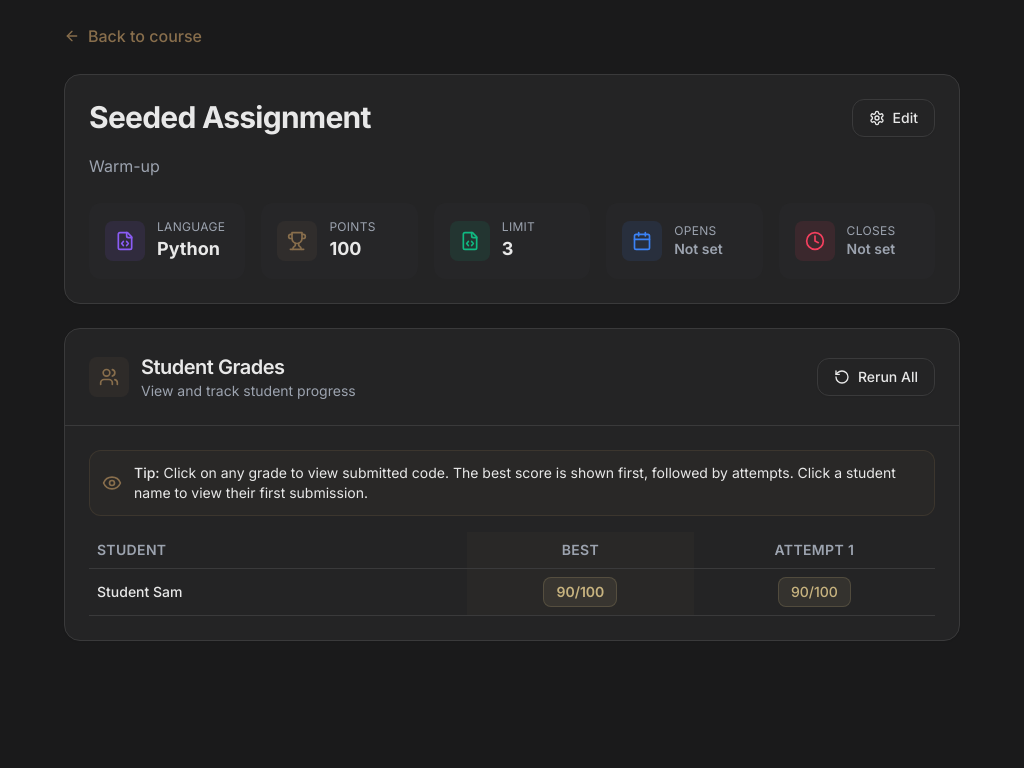
Scenario: AssignmentDetailPage (MSW, updated) › faculty view: rerun all students error handling
Click the button "Rerun All".
click(876, 377)  # box [817,358,935,396]
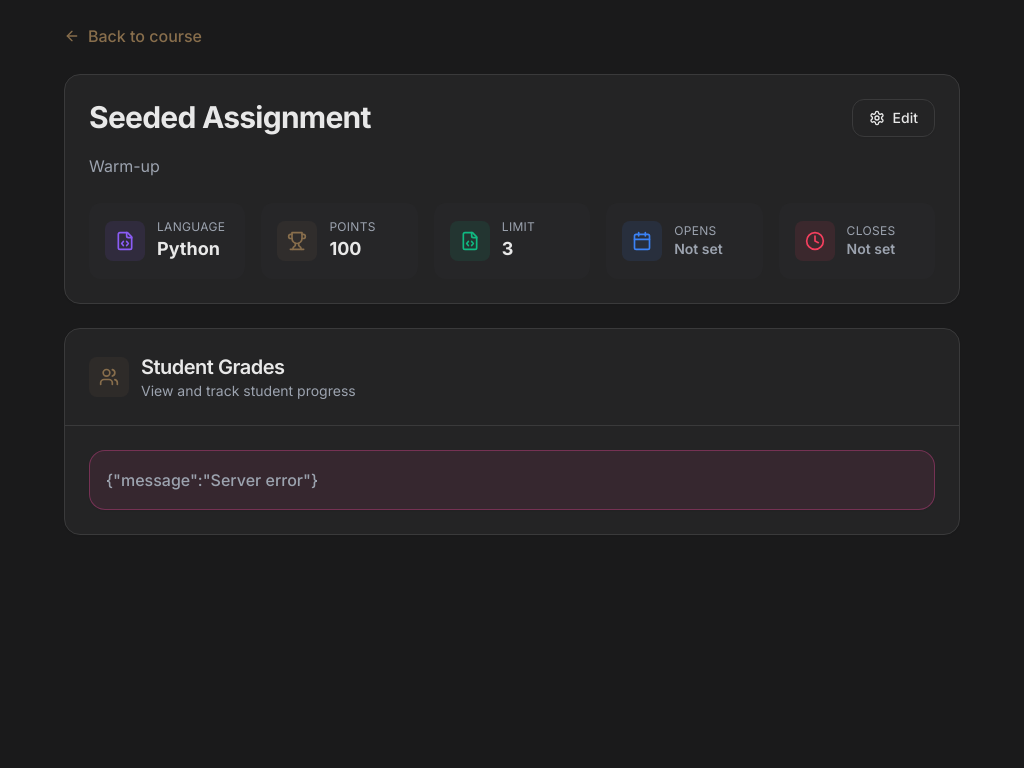
Now the text "{\"message\":\"Server error\"}" is shown, box [106,470,318,490]
